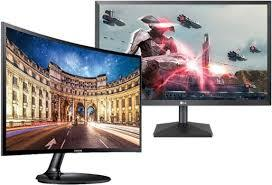monitor: (94, 1, 272, 107), (1, 21, 143, 153)
